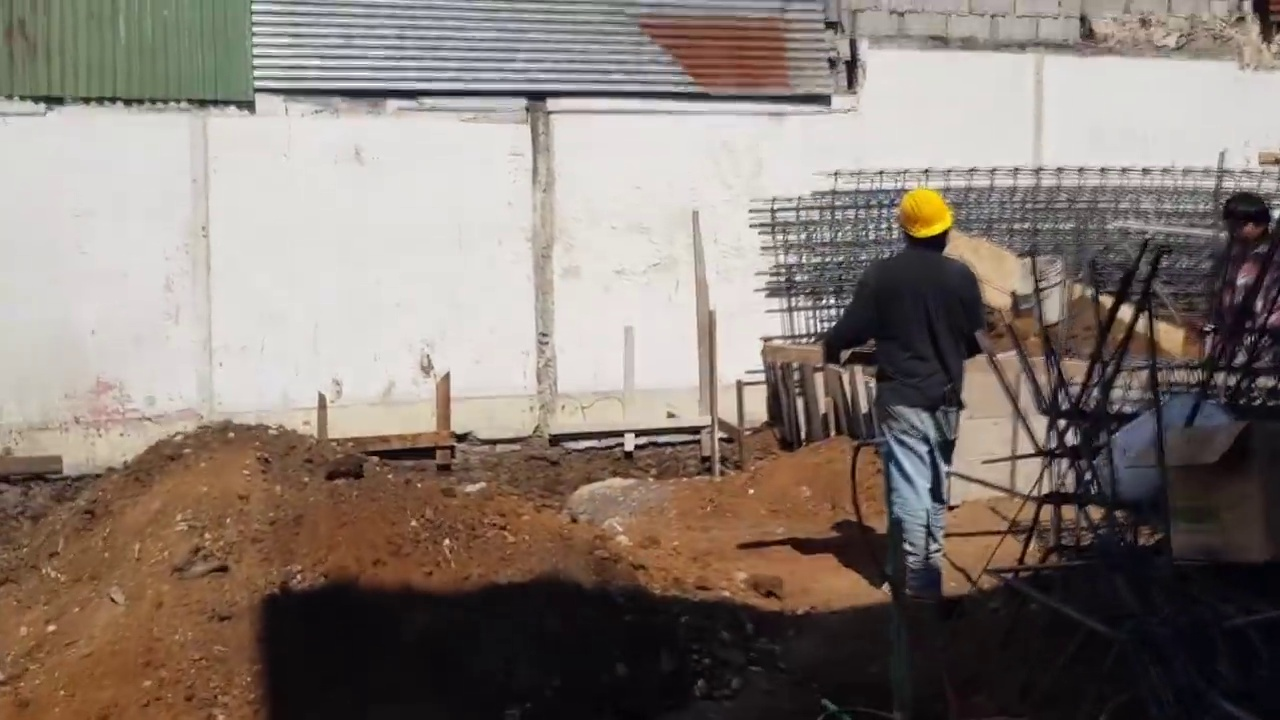helmet: (901, 190, 960, 243)
helmet-off: (1224, 190, 1273, 255)
helmet-on: (891, 173, 960, 262)
person: (819, 169, 1020, 610), (1204, 176, 1277, 446)
